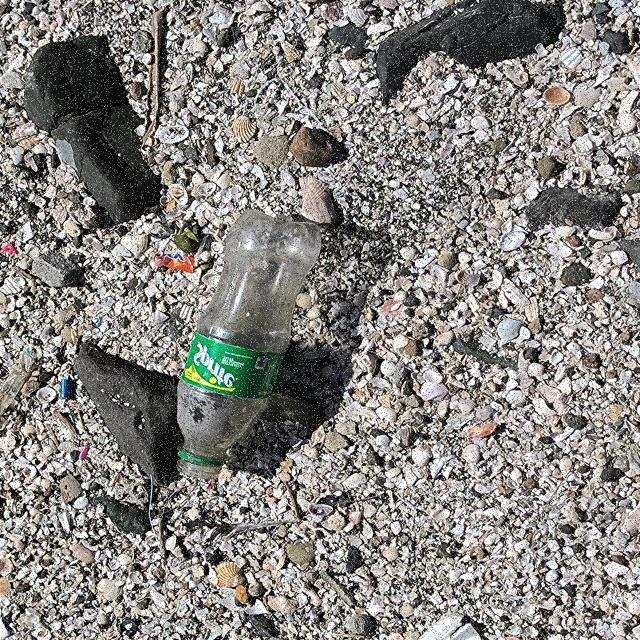plastic_waste: (175, 209, 326, 481)
